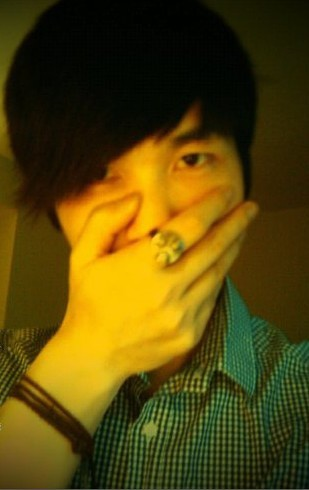face: (61, 79, 241, 356)
